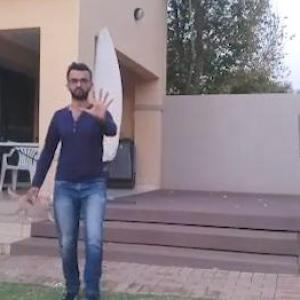follow_hand: (78, 81, 118, 126)
